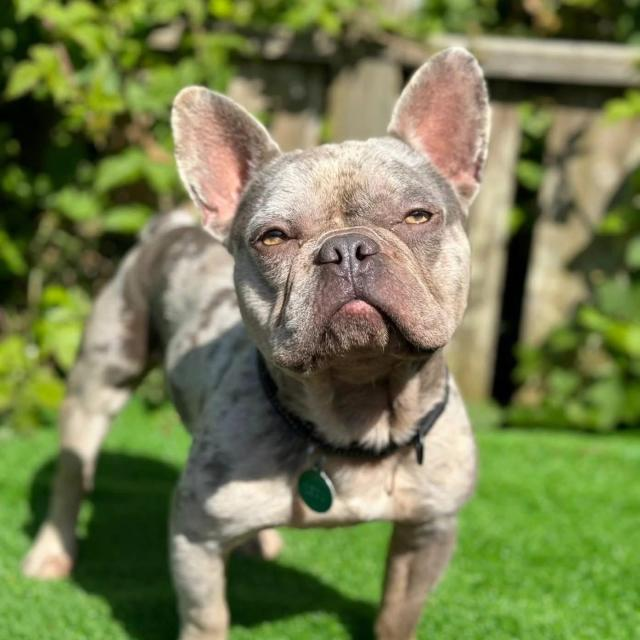french_bulldog_dog: (166, 25, 507, 446)
